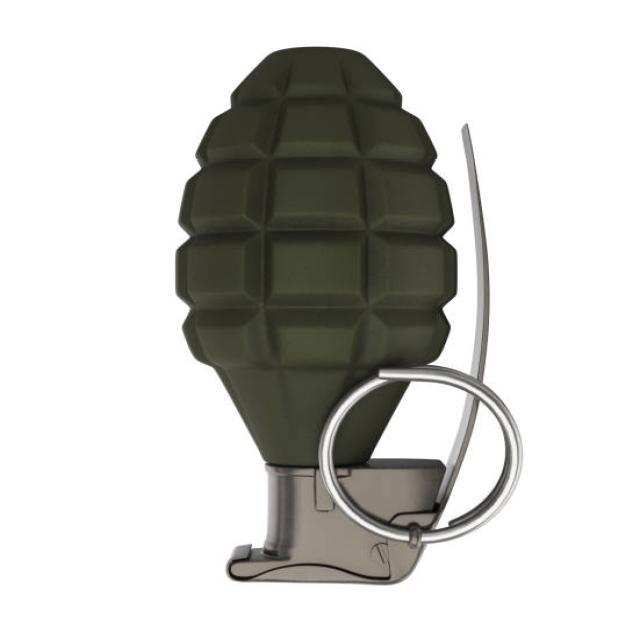grenade: (154, 28, 535, 592)
